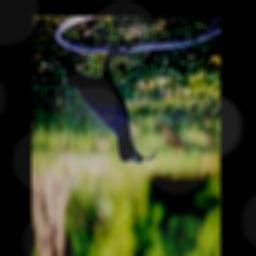Crow: (55, 48, 142, 162)
